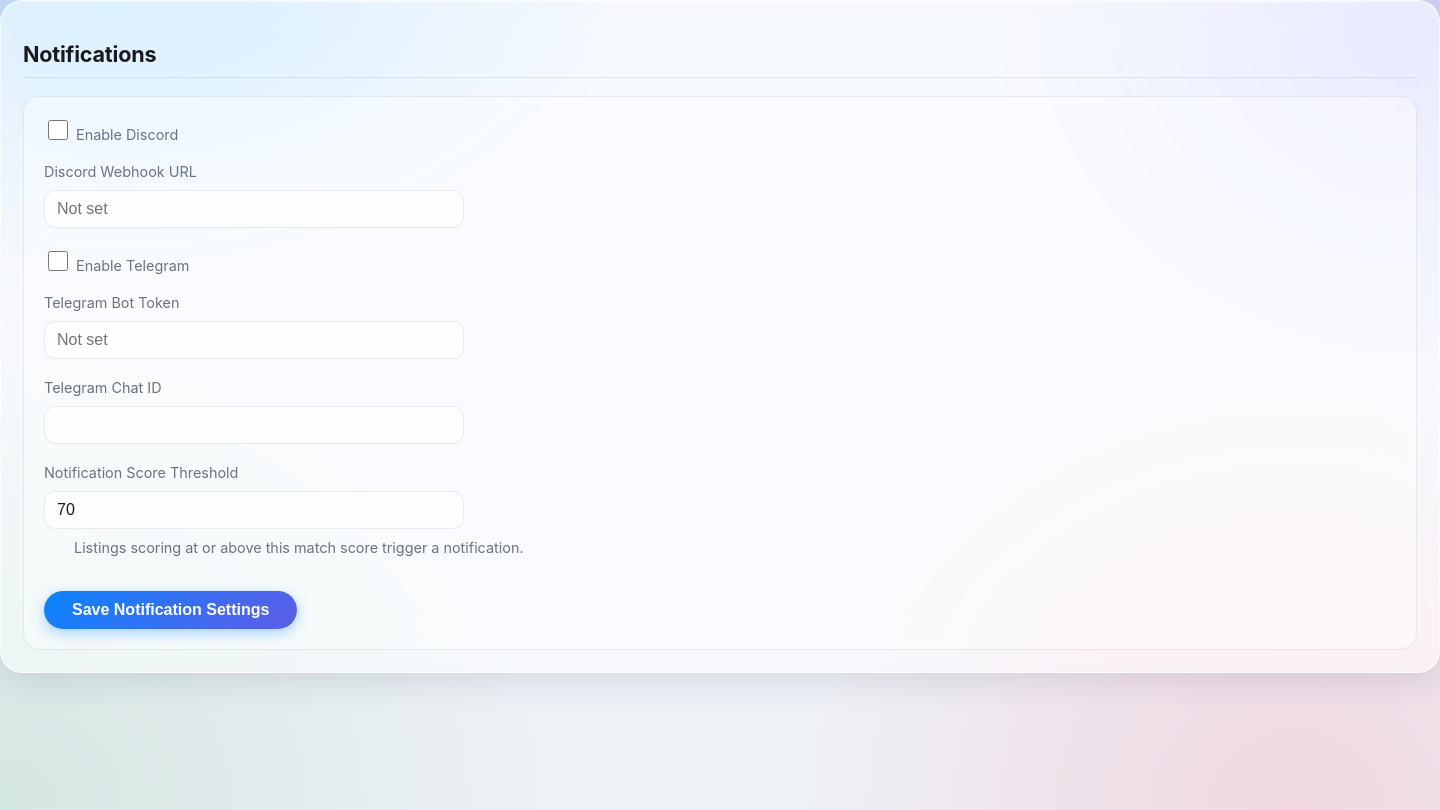
Test: NotificationsTab › displays error message when save fails
This screenshot has width=1440, height=810.
Click the button "Save Notification Settings" at [171, 610], box [44, 591, 297, 629]
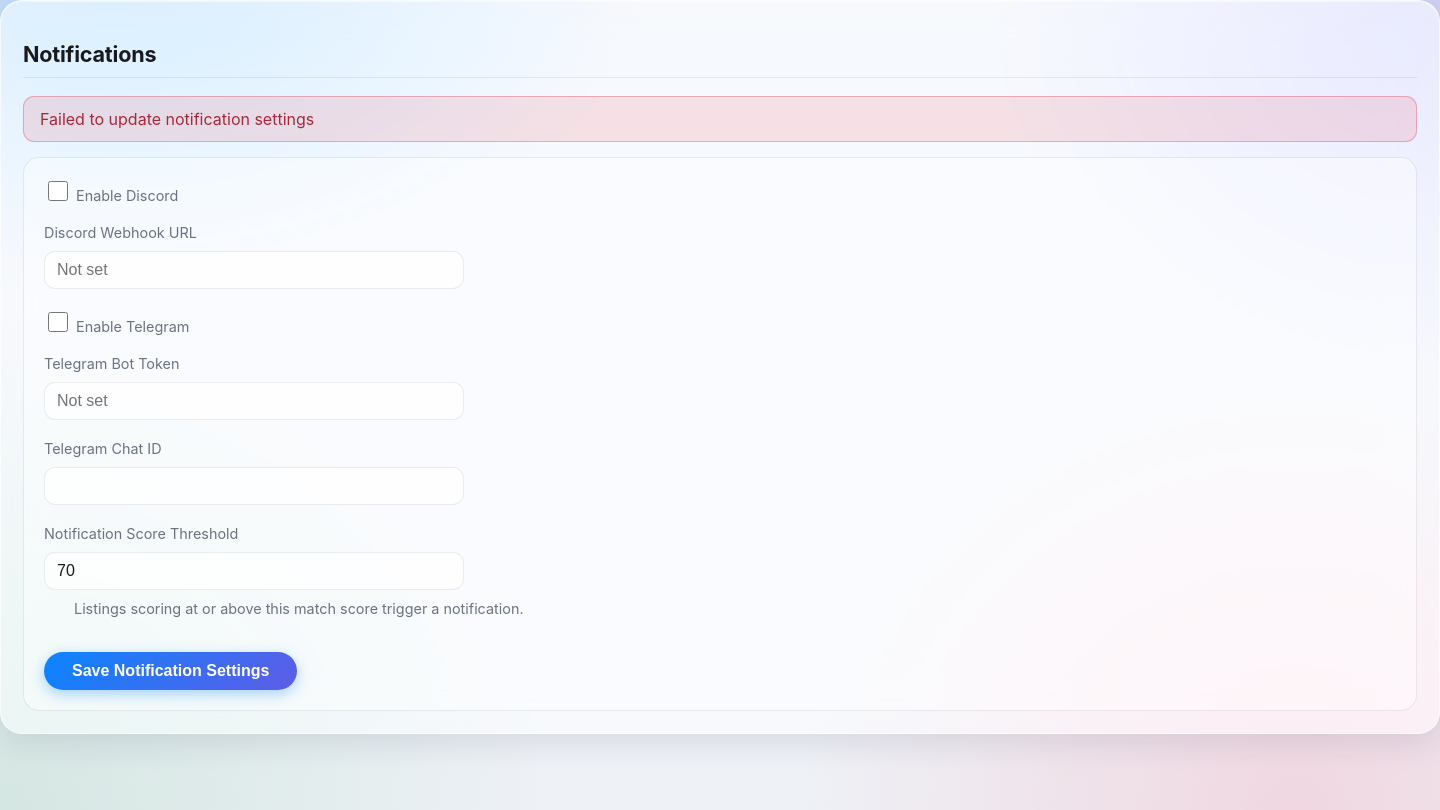
Expected: the text "Failed to update notification settings" is shown, [23, 96, 1417, 142]
